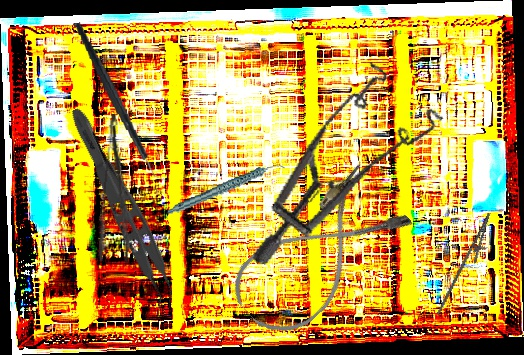Cannula: (221, 161, 416, 349)
Chopper: (72, 13, 170, 191)
Dressing Forceps: (95, 113, 142, 264)
Handpiece: (162, 162, 290, 215)
Needle Holder: (435, 207, 500, 323)
Speculum: (251, 45, 453, 299)
Tissue Forceps: (52, 104, 188, 316)
